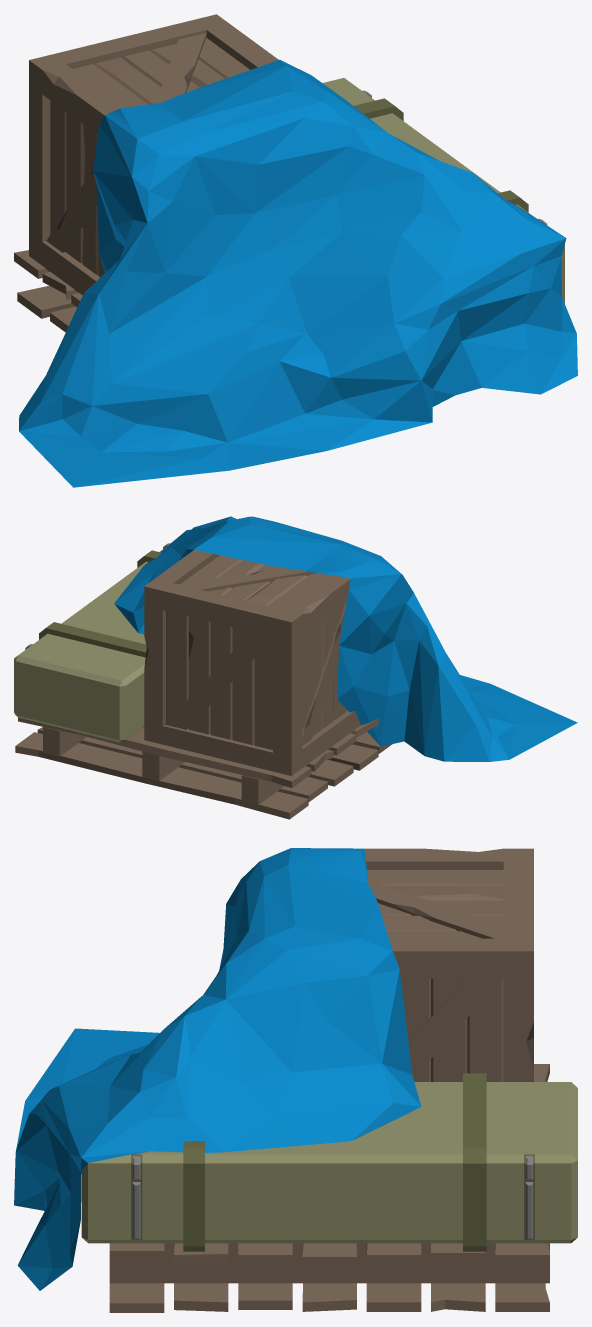
Rendered from model_tarp_covered_crates.fbx.
3 views of the same model, one above another, from view 1: azimuth 30°, elevation 25°; view 2: azimuth 150°, elevation 25°; view 3: azimuth 270°, elevation 25° (orthographic). The views are drawn at different scales.
Parts seen in each view (by area): view 1: model_tarp_covered_crates; view 2: model_tarp_covered_crates; view 3: model_tarp_covered_crates.
Part boxes in pixels (x1,y1,x2,y2): model_tarp_covered_crates: [14, 14, 577, 487]; model_tarp_covered_crates: [14, 516, 577, 819]; model_tarp_covered_crates: [14, 848, 577, 1312].
Size of the model in its own units: 269 by 129 by 232.
Materials: 1 (1 with a texture image).
